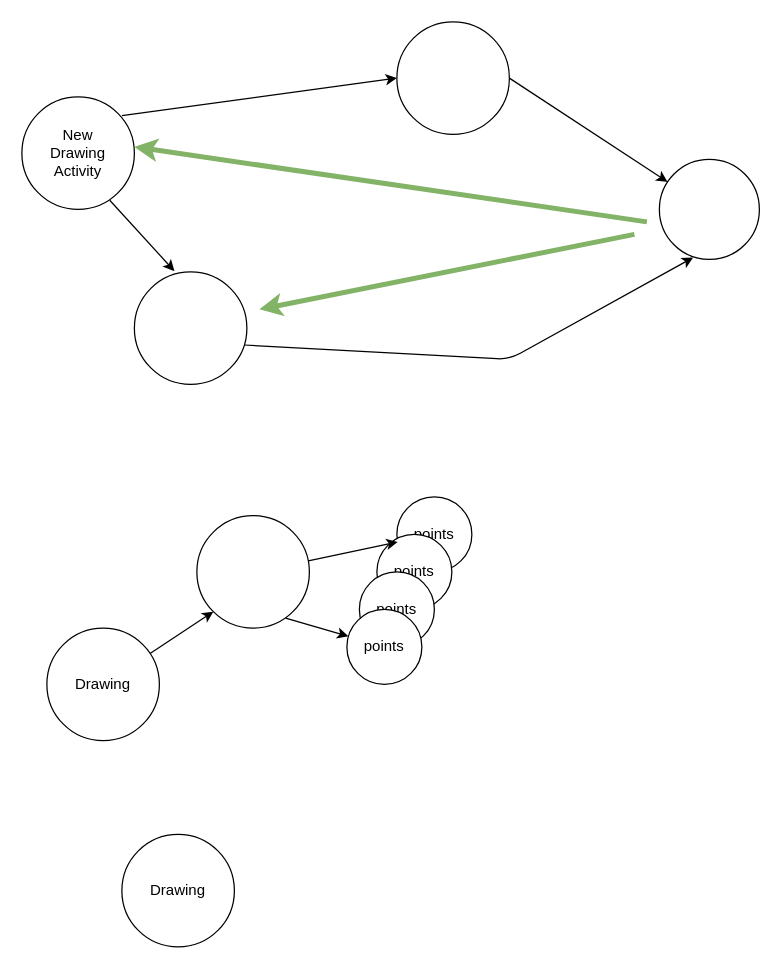
Some shapes in this 781 by 969 pixel diagram are drawn without their labels. Each missing label, with the box of its shape:
Composables: (133, 271, 247, 384)
Drawing ViewModel: (396, 21, 509, 134)
Lines: (196, 514, 309, 628)
LiveData: (658, 158, 759, 259)
